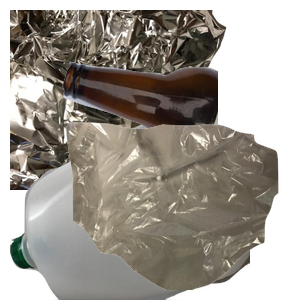glass: (60, 59, 300, 217)
metal: (10, 10, 229, 190)
plastic: (10, 120, 250, 300)
trash: (64, 120, 300, 300)
